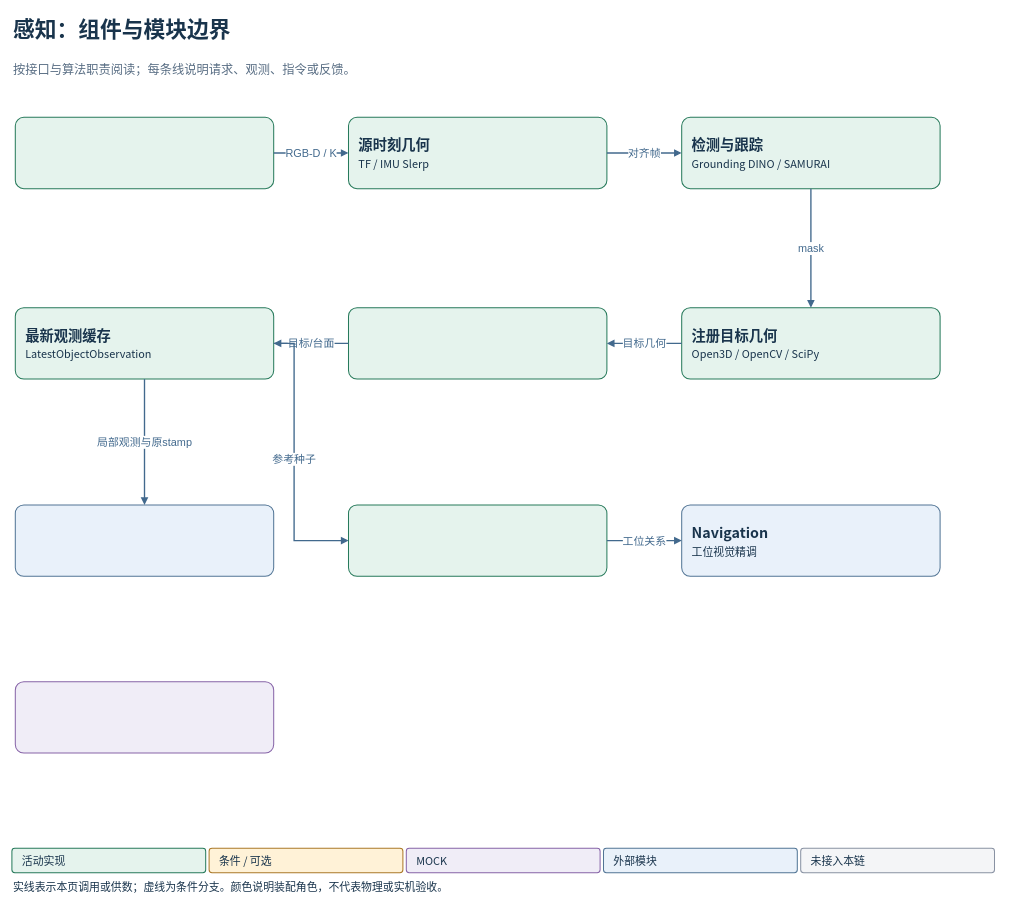
This 1010x910 diagram has some shape labels left out. Here are the shapes that lost their labels. From the top down, the centre of each, then its label:
At point 144,152: "RGB-D接入 RegisteredObjectRos".
At point 477,343: "支撑面与参考 CPU进程 / CAD / SIFT-PnP".
At point 144,540: "Manipulation 结构化局部观测".
At point 477,540: "导航相对参考 VisualNavigationReference".
At point 144,717: "mock场景 PerceptionRuntime.observe".
